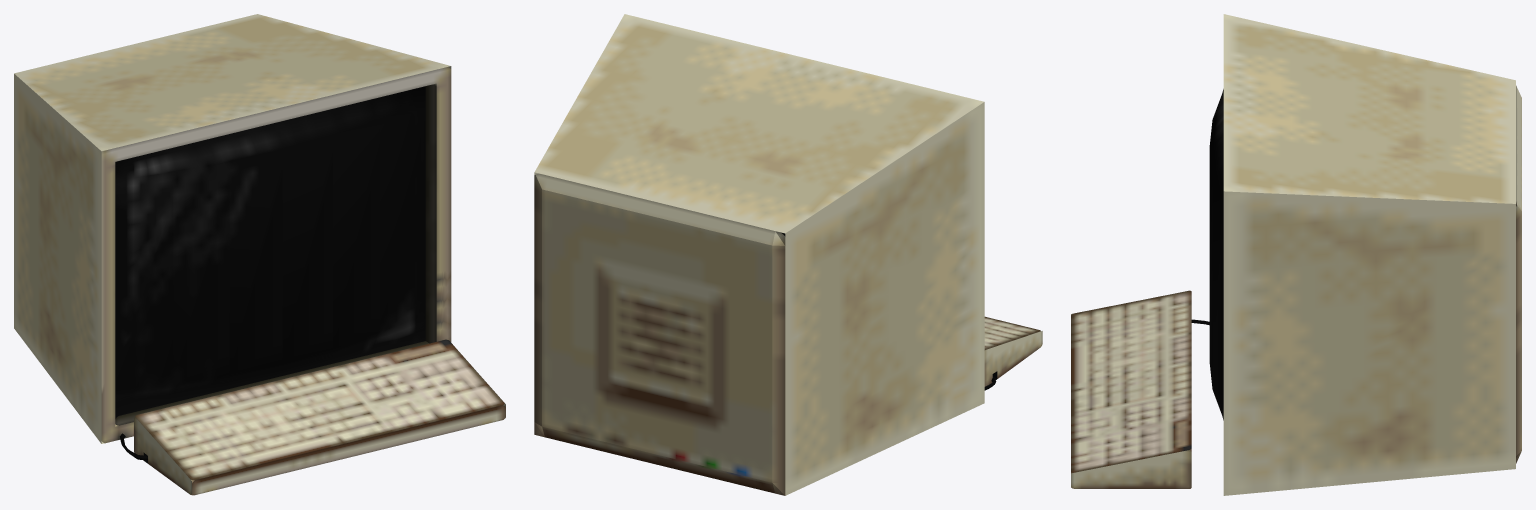
The model's file is monitor.fbx.
3 views of the same model, side by side, from view 1: azimuth 30°, elevation 25°; view 2: azimuth 150°, elevation 25°; view 3: azimuth 270°, elevation 25° (orthographic). The views are drawn at different scales.
Parts seen in each view (by area): view 1: Cube, Cube.001; view 2: Cube; view 3: Cube, Cube.001.
Boxes of the visible parts, x1,y1,x2,y2 form: Cube: [14, 14, 505, 495]; Cube.001: [115, 86, 425, 416]; Cube: [534, 14, 1042, 495]; Cube: [1071, 14, 1521, 495]; Cube.001: [1209, 89, 1223, 420].
Bounding box in the file's own units: 287 × 232 × 308.
